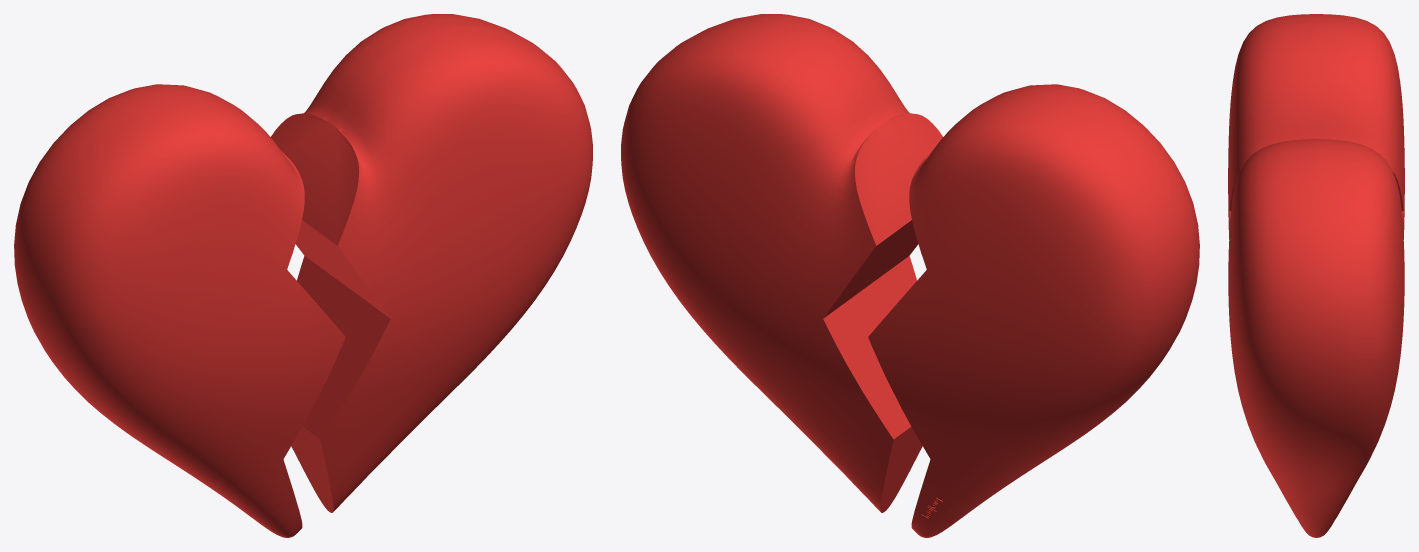
Rendered from broken_heart.fbx.
3 views of the same model, side by side, from view 1: azimuth 30°, elevation 25°; view 2: azimuth 150°, elevation 25°; view 3: azimuth 270°, elevation 25° (orthographic). The views are drawn at different scales.
Visible parts, largest first — view 1: hfdjkslfjkds.015; view 2: hfdjkslfjkds.015; view 3: hfdjkslfjkds.015.
Part boxes in pixels (<box>): hfdjkslfjkds.015: <box>14,14,592,537</box>; hfdjkslfjkds.015: <box>621,14,1199,537</box>; hfdjkslfjkds.015: <box>1228,14,1404,537</box>.
Bounding box in the file's own units: 205 × 168 × 59.58.
1 material, 1 textured.
